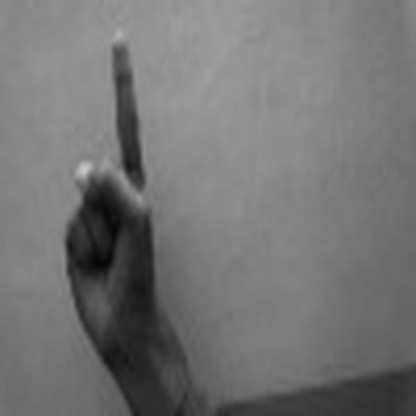d: (51, 28, 178, 356)
